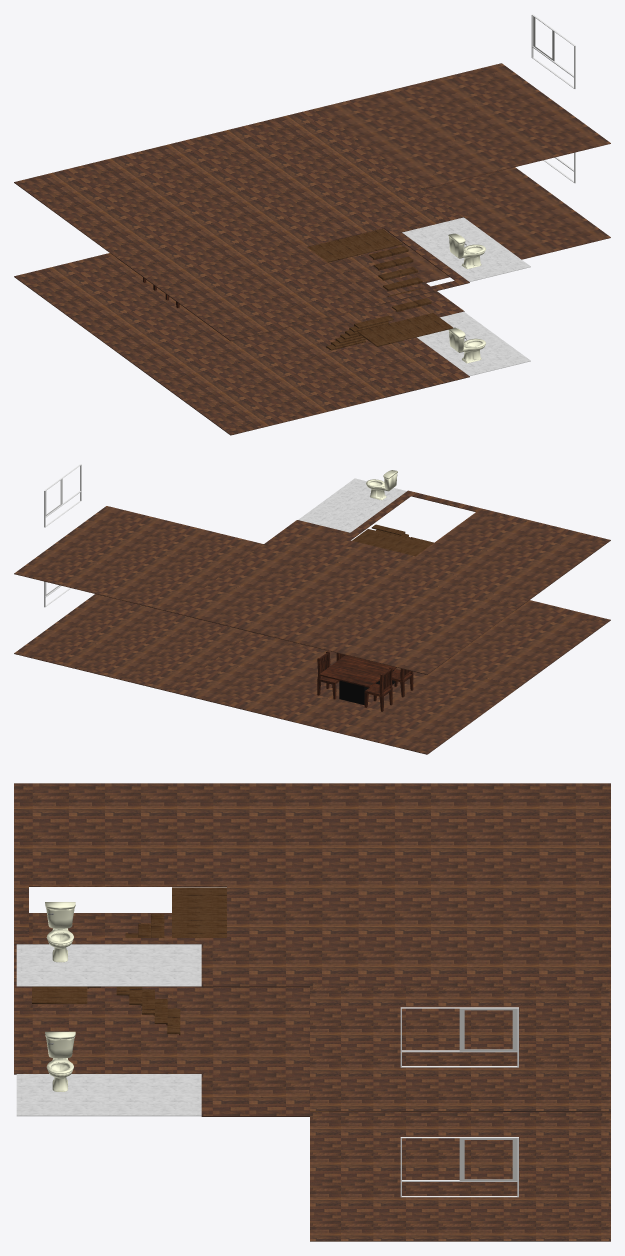
The model's file is brillosos.fbx.
3 renders of one model, top to bottom at view 1: azimuth 30°, elevation 25°; view 2: azimuth 150°, elevation 25°; view 3: azimuth 270°, elevation 25°, orthographic. The views are drawn at different scales.
Visible parts, largest first — view 1: P2_Piso, PB_piso, wood, P2_pisobanio, PB_pisobanio, P2_Toilet, P2_Toilet.001; view 2: P2_Piso, PB_piso, P2_pisobanio, Mesa, wood, Silla.001, P2_Toilet, Silla.003; view 3: P2_Piso, PB_piso, PB_pisobanio, P2_pisobanio, wood, P2_Toilet.001, P2_Toilet, VentanaP2, VentanaPB, MarcoVentanaE.001, MarcoVentanaE.
Part boxes in pixels (x1,y1,x2,y2): P2_Piso: [14, 63, 610, 341]; PB_piso: [14, 167, 610, 435]; wood: [307, 229, 453, 350]; P2_pisobanio: [402, 217, 530, 281]; PB_pisobanio: [417, 311, 530, 375]; P2_Toilet: [448, 233, 485, 269]; P2_Toilet.001: [448, 327, 485, 363]; P2_Piso: [14, 490, 610, 674]; PB_piso: [14, 594, 610, 754]; P2_pisobanio: [298, 478, 406, 532]; Mesa: [319, 655, 396, 705]; wood: [352, 524, 433, 556]; Silla.001: [364, 667, 392, 711]; P2_Toilet: [366, 470, 397, 500]; Silla.003: [317, 651, 339, 699]; P2_Piso: [14, 783, 610, 1111]; PB_piso: [14, 913, 610, 1241]; PB_pisobanio: [16, 1074, 201, 1116]; P2_pisobanio: [16, 944, 201, 986]; wood: [32, 887, 226, 1035]; P2_Toilet.001: [45, 1031, 75, 1091]; P2_Toilet: [45, 902, 75, 962]; VentanaP2: [400, 1007, 518, 1067]; VentanaPB: [400, 1137, 518, 1197]; MarcoVentanaE.001: [459, 1008, 517, 1051]; MarcoVentanaE: [459, 1138, 517, 1180].
Bounding box in the file's own units: 1642 × 542 × 1264.
Materials: 22 (20 with a texture image).
